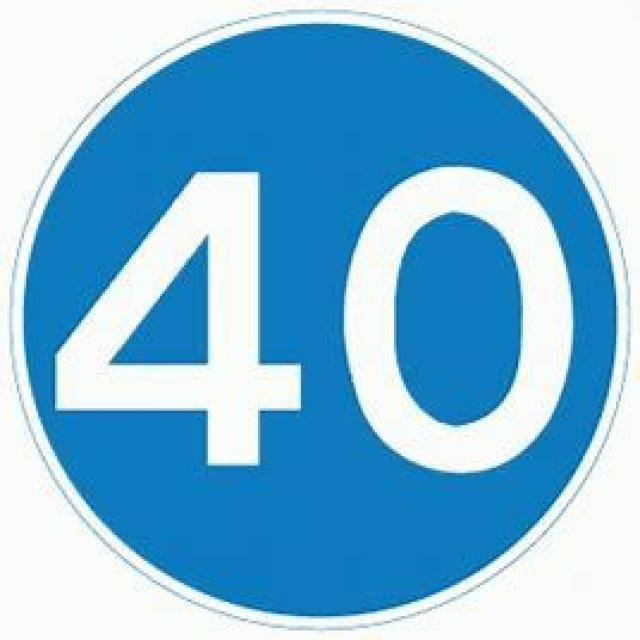COMPULSARY_MINIMUM_SPEED: (15, 11, 624, 639)
